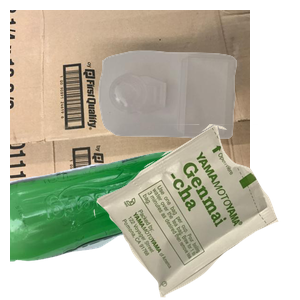cardboard: (10, 10, 250, 190)
glass: (10, 149, 203, 300)
plastic: (96, 48, 300, 179)
trash: (91, 124, 300, 300)
